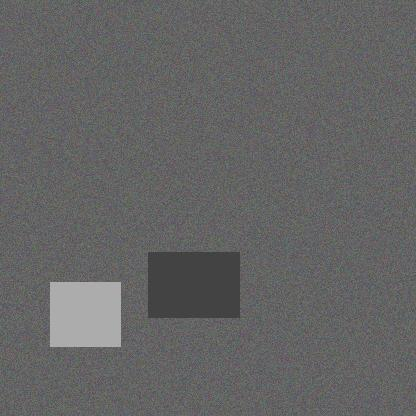empty: (188, 264, 245, 320)
occupied: (151, 189, 222, 252)
